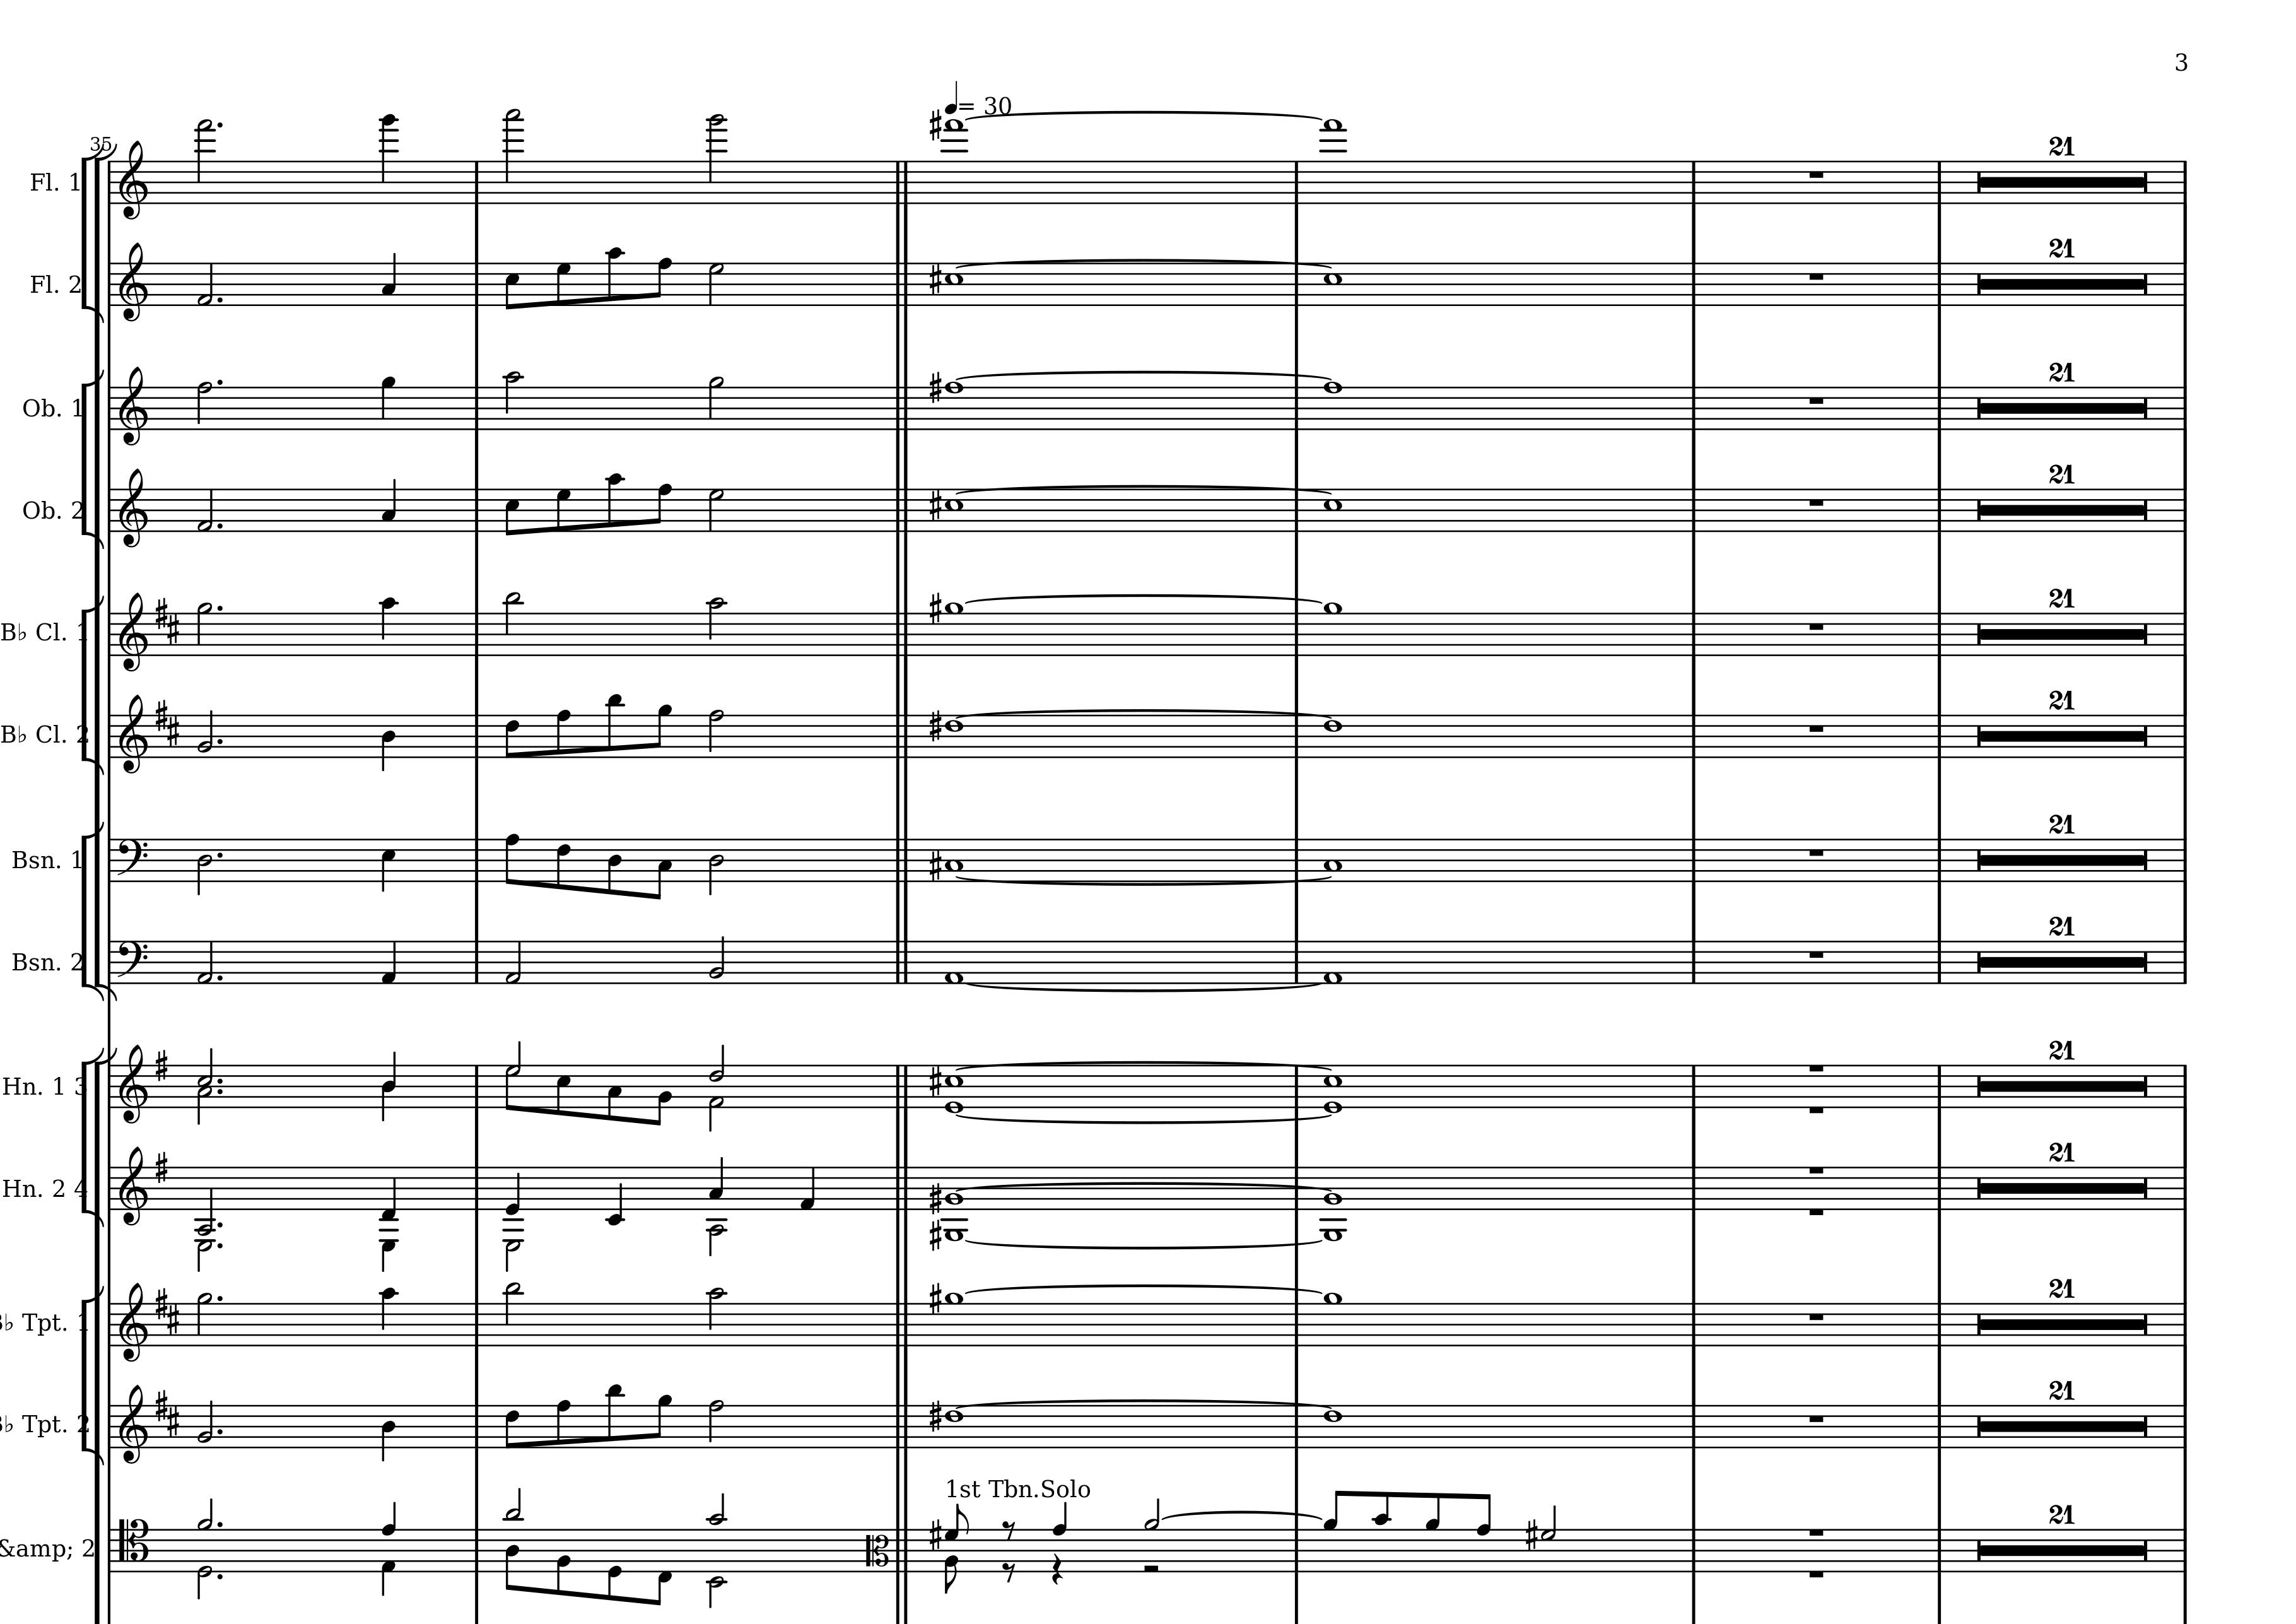0: (998, 93, 1014, 114)
1_-5_2: (1319, 1164, 1347, 1243), (942, 1165, 970, 1243)
1_0_5: (1323, 1063, 1344, 1116), (943, 1065, 966, 1113)
1_1: (1323, 937, 1342, 984), (943, 939, 963, 984)
1_10: (943, 1290, 964, 1346)
1_15: (942, 116, 968, 206), (1321, 118, 1347, 206)
1_3: (1323, 835, 1342, 882), (943, 835, 963, 881)
1_5: (943, 260, 963, 306), (1323, 260, 1342, 306), (943, 487, 963, 533), (1323, 487, 1342, 533)
1_6: (1323, 714, 1342, 758), (1323, 1403, 1342, 1446), (945, 1403, 963, 1448), (945, 714, 963, 758)
1_8: (1321, 1292, 1344, 1346), (943, 378, 964, 431), (1323, 378, 1342, 431)
1_9: (943, 599, 964, 657), (1321, 601, 1342, 657)
2_-2_10: (706, 1490, 726, 1610)
2_-7_-4: (195, 1165, 216, 1271)
2_0_9: (197, 1499, 213, 1599)
2_1: (195, 260, 214, 308), (195, 487, 214, 533), (195, 939, 214, 984), (504, 939, 522, 984)
2_10: (502, 369, 523, 431), (708, 596, 726, 657), (708, 1285, 726, 1346)
2_11: (502, 591, 522, 657), (504, 1281, 522, 1346)
2_15: (195, 118, 216, 206)
2_16: (706, 114, 729, 204)
2_17: (502, 109, 523, 204)
2_2: (195, 708, 214, 758), (708, 933, 726, 984), (197, 1397, 214, 1448)
2_3_5: (197, 1049, 214, 1125)
2_4: (195, 837, 213, 896), (708, 837, 724, 896)
2_7: (1539, 1503, 1556, 1573), (708, 260, 726, 306), (708, 487, 726, 533)
2_8: (195, 380, 213, 432), (708, 708, 726, 759), (708, 1397, 724, 1448)
2_9: (708, 374, 726, 431), (195, 601, 213, 657), (195, 1290, 213, 1345)
3: (982, 93, 998, 114), (2175, 49, 2189, 72), (90, 134, 100, 149)
4_-2: (606, 1164, 624, 1225)
4_-7_-1: (379, 1164, 401, 1276)
4_0: (504, 1164, 522, 1214)
4_1: (379, 940, 397, 984), (799, 1165, 815, 1211)
4_10: (379, 1285, 399, 1346), (379, 596, 397, 657)
4_16: (379, 112, 399, 206)
4_1_8: (381, 1503, 397, 1594)
4_3: (381, 476, 397, 533), (708, 1155, 724, 1211), (381, 251, 397, 306)
4_4: (379, 712, 397, 773), (381, 1403, 395, 1462)
4_5: (381, 837, 395, 893)
4_9: (379, 374, 395, 431)
5: (100, 134, 112, 149)
8_-1: (653, 1526, 673, 1605)
8_0: (606, 1527, 622, 1601)
8_10: (1372, 1490, 1390, 1573), (606, 246, 624, 306), (606, 473, 624, 533)
8_11: (606, 692, 624, 759), (606, 1381, 624, 1448)
8_2: (652, 1063, 671, 1127), (555, 1527, 571, 1596)
8_3: (650, 837, 673, 900), (604, 1063, 622, 1121)
8_4: (504, 1526, 520, 1591), (606, 837, 622, 895)
8_5: (555, 1063, 571, 1116), (504, 260, 520, 311), (504, 487, 520, 536)
8_6: (555, 837, 571, 891), (504, 712, 520, 759), (504, 1403, 520, 1448)
8_7: (555, 262, 573, 308), (555, 487, 573, 533)
8_8: (1476, 1492, 1491, 1573), (652, 482, 671, 533), (652, 257, 671, 306), (504, 831, 520, 886), (555, 1397, 571, 1448), (555, 708, 571, 758)
8_9: (1323, 1487, 1342, 1573), (1425, 1490, 1440, 1571), (652, 703, 673, 758), (652, 1392, 671, 1448)
Bracke: (95, 149, 107, 998), (97, 1204, 119, 1624), (79, 831, 95, 993), (79, 153, 93, 316), (79, 1056, 93, 1216), (81, 378, 93, 541), (81, 605, 93, 765), (81, 1295, 91, 1457)
Bsn: (11, 847, 56, 872), (11, 951, 58, 974)
Cclef: (864, 1527, 891, 1571)
Cl: (33, 617, 61, 645), (33, 721, 63, 747)
D_S: (153, 596, 181, 645), (153, 698, 181, 747), (153, 1388, 181, 1436), (155, 1287, 181, 1334)
Double_barline: (892, 158, 912, 204), (892, 260, 912, 306), (892, 610, 912, 656), (892, 939, 912, 984), (892, 385, 912, 429), (892, 487, 912, 531), (892, 714, 912, 758), (892, 837, 912, 881), (892, 1063, 912, 1107), (892, 1165, 912, 1209), (892, 1301, 912, 1345), (892, 1527, 910, 1571), (892, 1404, 910, 1446)
Fclef: (116, 939, 149, 984), (116, 835, 148, 882)
Fl: (28, 271, 54, 295), (28, 169, 54, 192)
Gclef: (118, 364, 149, 446), (118, 466, 149, 548), (118, 139, 149, 220), (118, 241, 149, 322), (118, 591, 148, 673), (118, 1042, 148, 1125), (118, 692, 148, 773), (118, 1144, 148, 1225), (118, 1281, 148, 1362), (118, 1383, 148, 1464)
Hn: (0, 1176, 35, 1199), (2, 1074, 32, 1097)
Ob: (21, 394, 56, 420), (23, 496, 56, 522)
Rests1: (1806, 1566, 1827, 1580), (1806, 394, 1827, 406), (1806, 496, 1827, 508), (1806, 845, 1827, 858), (1806, 947, 1827, 960), (1806, 1102, 1827, 1114), (1806, 1164, 1827, 1176), (1806, 1204, 1827, 1216), (1806, 1526, 1827, 1538), (1806, 167, 1825, 179), (1806, 1062, 1825, 1074), (1806, 1411, 1825, 1424), (1806, 271, 1827, 281), (1806, 620, 1827, 631), (1806, 722, 1827, 733), (1806, 1311, 1827, 1322)
Rests2: (1140, 1562, 1161, 1573)
Rests4: (1051, 1552, 1063, 1585)
Rests8: (1000, 1559, 1017, 1584), (1001, 1517, 1015, 1538)
Sharp: (926, 1179, 943, 1213), (926, 487, 942, 522), (153, 1048, 169, 1083), (926, 1280, 942, 1315), (926, 107, 942, 141), (926, 262, 942, 295), (153, 1149, 169, 1183), (928, 369, 942, 404), (928, 845, 942, 881), (928, 1063, 942, 1098), (928, 1397, 942, 1432), (928, 591, 942, 624), (928, 708, 942, 742), (928, 1220, 942, 1250), (929, 1517, 942, 1550), (1527, 1517, 1537, 1550)
Single_barline: (1289, 383, 1305, 429), (1685, 612, 1700, 656), (1685, 714, 1700, 758), (1685, 837, 1700, 881), (1685, 1527, 1700, 1571), (1685, 262, 1700, 304), (1685, 387, 1700, 429), (1685, 489, 1700, 531), (1289, 489, 1305, 531), (1685, 1302, 1700, 1345), (1289, 160, 1303, 204), (1686, 160, 1700, 204), (1932, 160, 1946, 204), (2177, 160, 2191, 204), (1932, 262, 1946, 306), (2177, 262, 2191, 306), (1289, 612, 1303, 656), (1932, 612, 1946, 656), (2177, 612, 2191, 656), (469, 714, 483, 758), (1932, 714, 1946, 758), (2177, 714, 2191, 758), (2177, 837, 2191, 881), (1932, 1165, 1946, 1209), (1932, 1527, 1946, 1571), (2177, 1527, 2191, 1571), (1289, 264, 1303, 306), (1932, 387, 1946, 429), (2177, 387, 2191, 429), (1932, 489, 1946, 531), (2177, 489, 2191, 531), (1289, 715, 1303, 758), (1289, 837, 1303, 879), (1932, 838, 1946, 881), (1289, 940, 1303, 982), (1686, 940, 1700, 982), (1932, 940, 1946, 982), (2177, 940, 2191, 982), (1686, 1065, 1700, 1107), (1932, 1065, 1946, 1107), (2177, 1065, 2191, 1107), (1289, 1165, 1303, 1207), (2177, 1167, 2191, 1209), (1289, 1302, 1303, 1345), (1932, 1302, 1946, 1345), (2177, 1302, 2191, 1345), (1932, 1404, 1946, 1446), (1686, 1404, 1700, 1446), (2177, 1404, 2191, 1446), (1289, 1527, 1303, 1570), (1289, 1067, 1302, 1114), (1686, 1167, 1700, 1207), (1289, 1406, 1303, 1446), (104, 262, 116, 306), (471, 385, 483, 429), (471, 612, 483, 656), (104, 714, 116, 758), (471, 837, 483, 881), (104, 940, 116, 984), (104, 1063, 116, 1107), (471, 1063, 483, 1107), (471, 1165, 483, 1209), (471, 1527, 483, 1571), (104, 1527, 116, 1571), (471, 160, 483, 202), (104, 162, 116, 204), (471, 262, 483, 304), (471, 489, 483, 531), (104, 838, 116, 881), (471, 940, 483, 982), (471, 1302, 483, 1345), (104, 1404, 116, 1446), (471, 1404, 483, 1446), (105, 487, 116, 533), (105, 1165, 116, 1209), (105, 387, 116, 429), (105, 612, 114, 656), (105, 1302, 114, 1345)
Slur: (952, 708, 1333, 721), (952, 485, 1332, 497), (952, 371, 1330, 383), (954, 875, 1330, 888), (963, 109, 1323, 121), (963, 594, 1323, 606), (952, 258, 1333, 269), (966, 984, 1321, 993)
Solo: (1036, 1478, 1094, 1499)
Speed4: (947, 77, 975, 114)
Tensor_Cclef: (116, 1517, 149, 1573)
Tpt: (19, 1410, 63, 1438), (21, 1309, 61, 1334)
dot: (214, 849, 223, 859), (214, 120, 223, 128), (214, 294, 223, 302), (214, 376, 223, 385), (214, 520, 223, 529), (214, 603, 223, 612), (214, 736, 223, 745), (214, 972, 223, 981), (214, 1076, 223, 1084), (214, 1220, 223, 1229), (214, 1294, 223, 1302), (214, 1425, 223, 1434), (214, 1519, 223, 1527), (214, 1570, 223, 1578), (214, 1086, 223, 1093), (214, 1241, 223, 1248)
